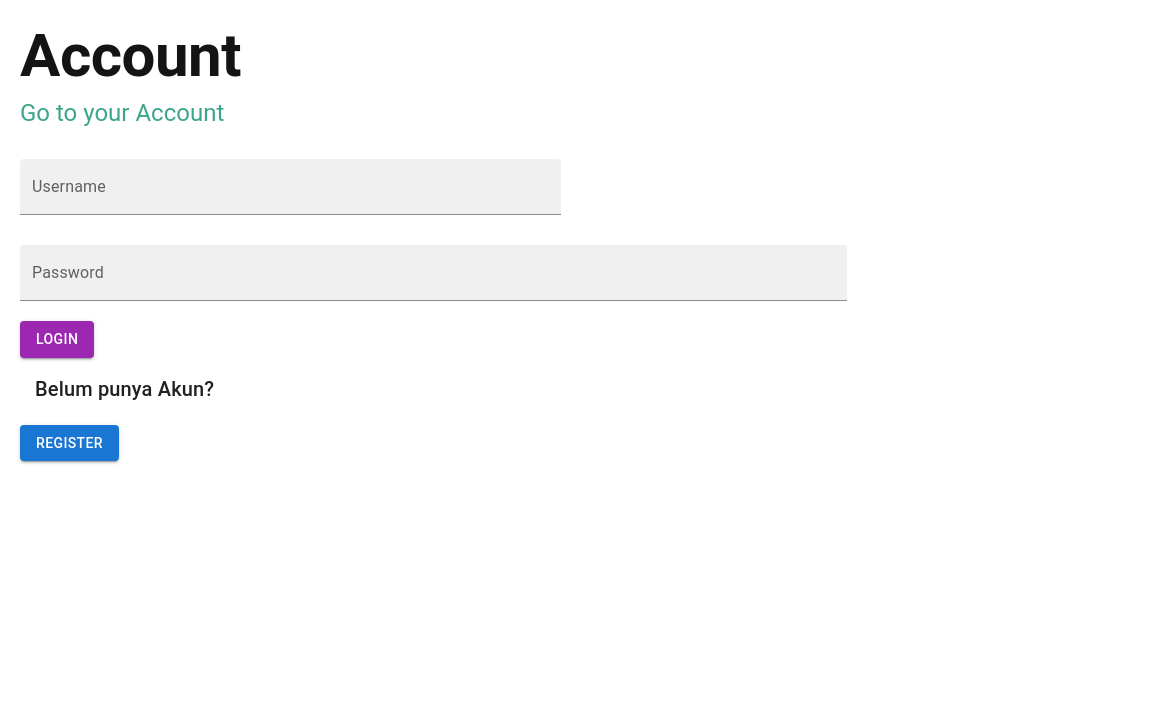
it: Login Component › displays an error message for invalid credentials
# Fill in the form fields
Type "testuser" into the field labelled "Username" at (290, 187), box x1=20 y1=159 x2=561 y2=215
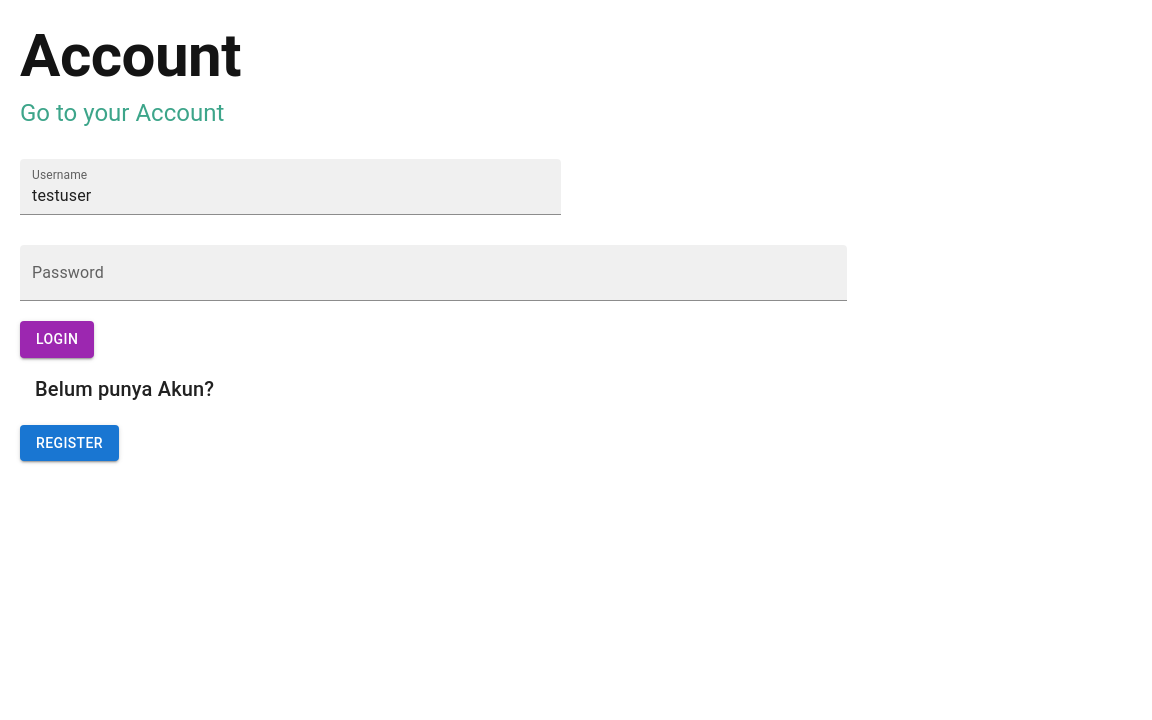
Type "wrongpassword" into the password field labelled "Password" at (433, 273), box x1=20 y1=245 x2=846 y2=301
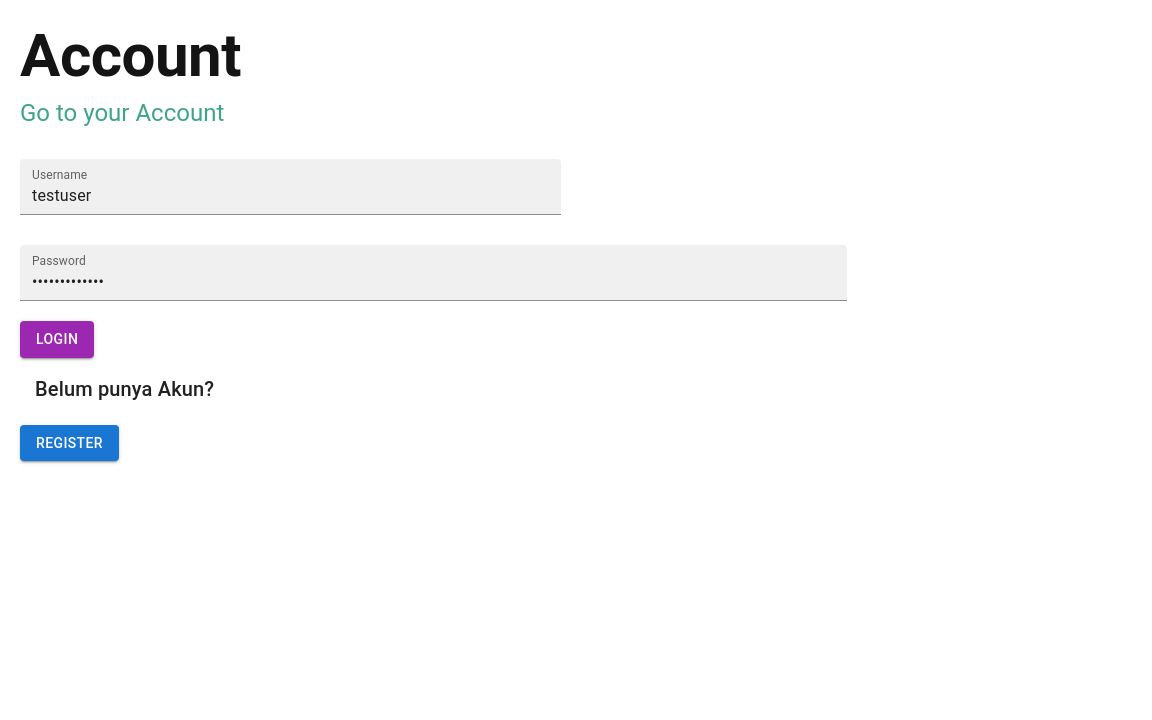
# Click the login button
Click the button "Login" at (57, 339), box x1=20 y1=321 x2=94 y2=358
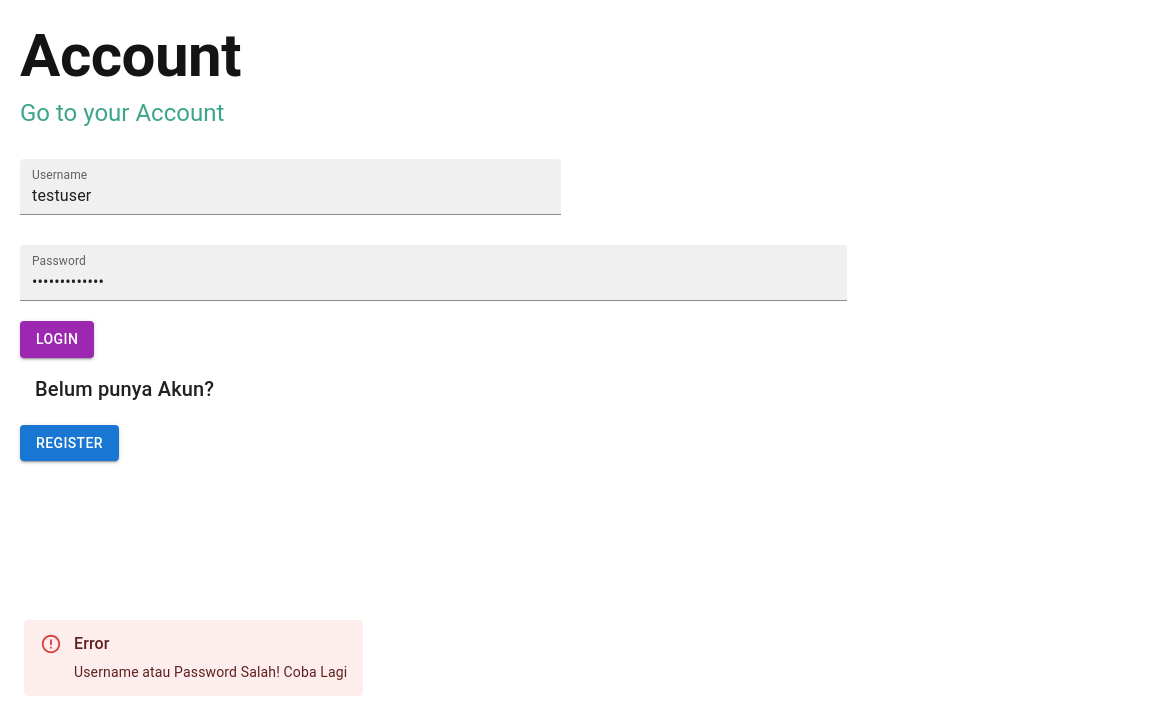
Result: the text "Error" is shown at x1=74 y1=634 x2=110 y2=653
Result: the text "Username atau Password Salah! Coba Lagi" is shown at x1=74 y1=664 x2=347 y2=680
